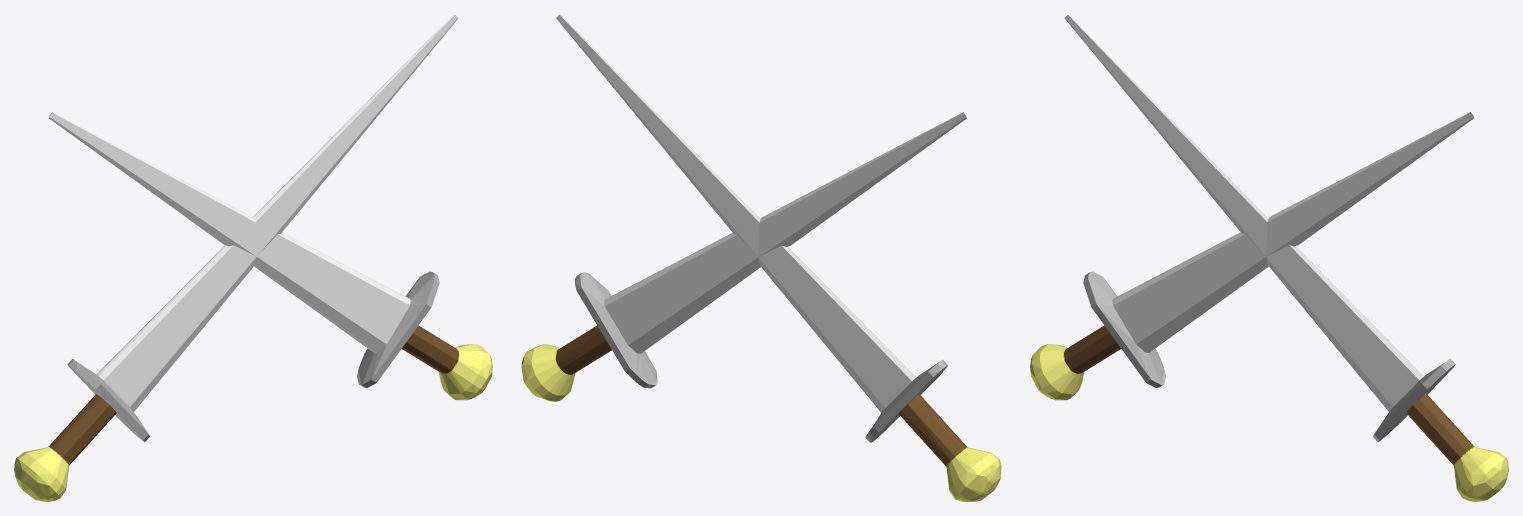
3 renders of one model, left to right at view 1: azimuth 30°, elevation 25°; view 2: azimuth 150°, elevation 25°; view 3: azimuth 330°, elevation 25°, orthographic.
Parts seen in each view (by area): view 1: {Sword}; view 2: {Sword}; view 3: {Sword}.
Part boxes in pixels (bbox=[...]): {Sword}: bbox=[14, 14, 492, 501]; {Sword}: bbox=[521, 14, 1001, 501]; {Sword}: bbox=[1030, 14, 1508, 501].
Size of the model in its own units: 5.49 by 4.3 by 0.5973.
